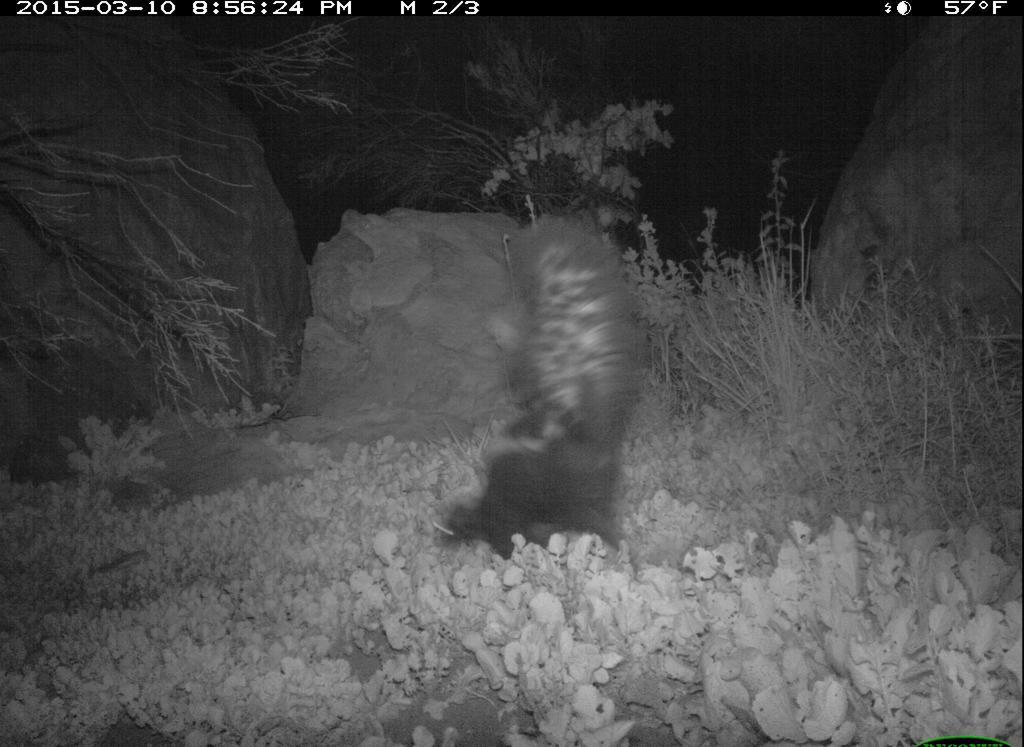skunk: (419, 210, 652, 566)
